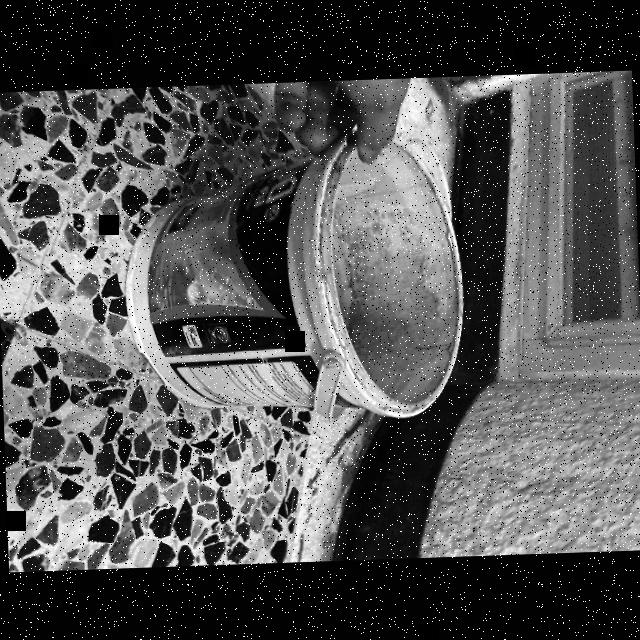paint_bucket: (122, 130, 471, 432)
